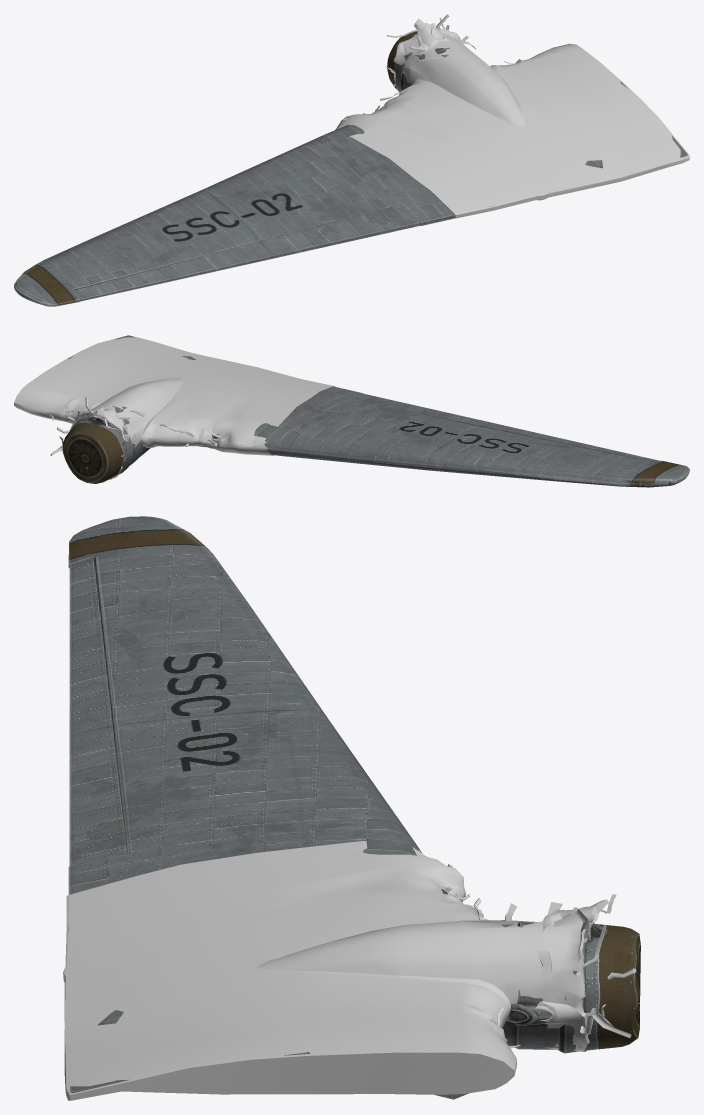
Rendered from plane_intro_wing_broken.dae.
3 views of the same model, one above another, from view 1: azimuth 30°, elevation 25°; view 2: azimuth 150°, elevation 25°; view 3: azimuth 270°, elevation 25° (orthographic). The views are drawn at different scales.
Parts seen in each view (by area): view 1: plane_intro_engine_broken, plane_intro_wing, plane_intro_wing_metalbits; view 2: plane_intro_wing, plane_intro_engine_broken, plane_intro_wing_metalbits; view 3: plane_intro_engine_broken, plane_intro_wing, plane_intro_wing_metalbits.
Boxes of the visible parts, left/top/right/bottom form: plane_intro_engine_broken: left=335, top=18, right=689, bottom=218; plane_intro_wing: left=14, top=31, right=687, bottom=306; plane_intro_wing_metalbits: left=341, top=14, right=513, bottom=120; plane_intro_wing: left=62, top=335, right=689, bottom=487; plane_intro_engine_broken: left=14, top=337, right=334, bottom=479; plane_intro_wing_metalbits: left=50, top=397, right=242, bottom=473; plane_intro_engine_broken: left=63, top=841, right=608, bottom=1100; plane_intro_wing: left=68, top=516, right=640, bottom=1099; plane_intro_wing_metalbits: left=442, top=864, right=639, bottom=1048.
Bounding box in the file's own units: 1418 × 182 × 617.
